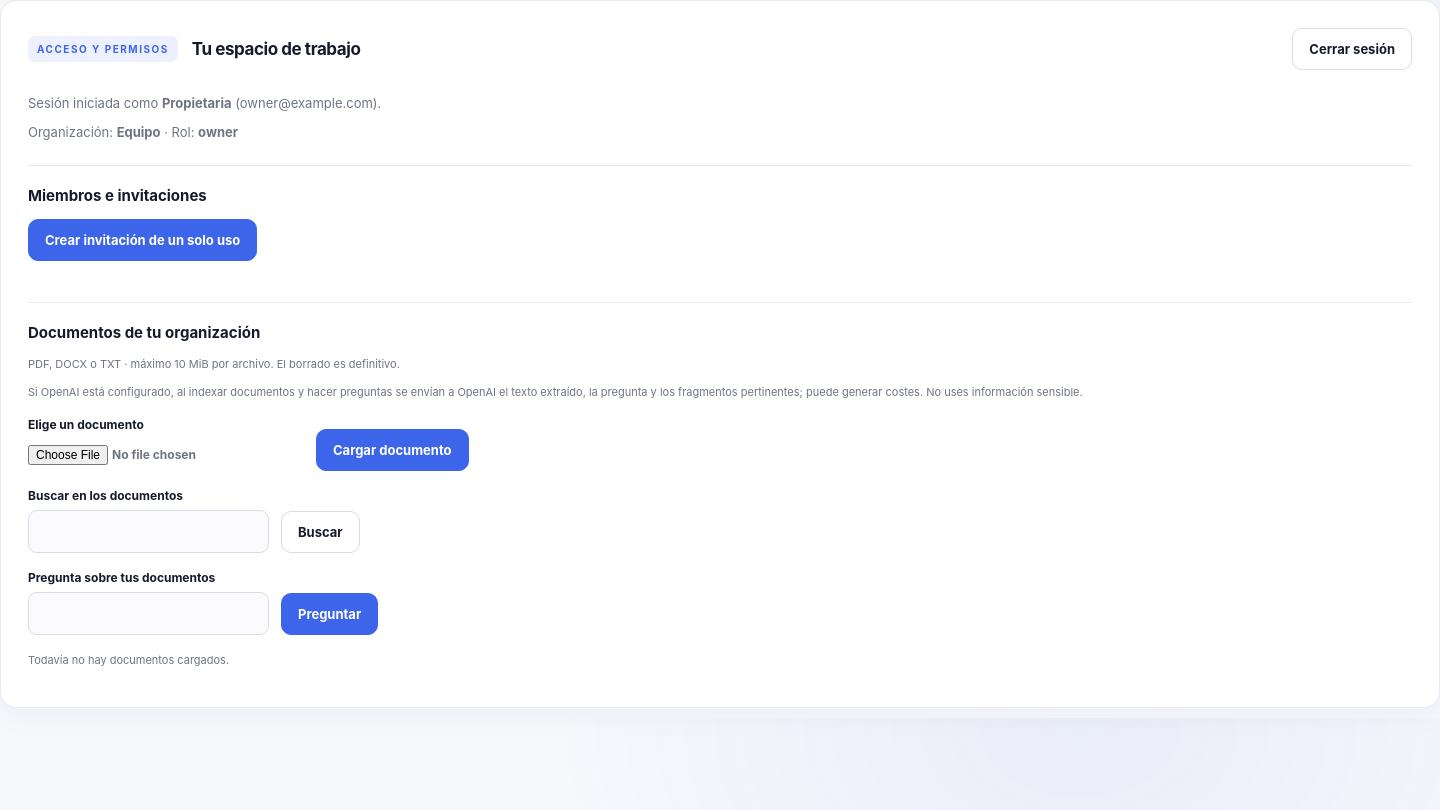
Test: AuthPanel › shows the one-time invitation code to the owner
Check: the text "Si OpenAI está configurado, al indexar documentos" is shown, box [28,384,1083,398]
What coordinates should you click on to do the following:
click the button "Crear invitación de un solo uso"
I would click on:
 (143, 240)
Its box is [28,219,257,261].
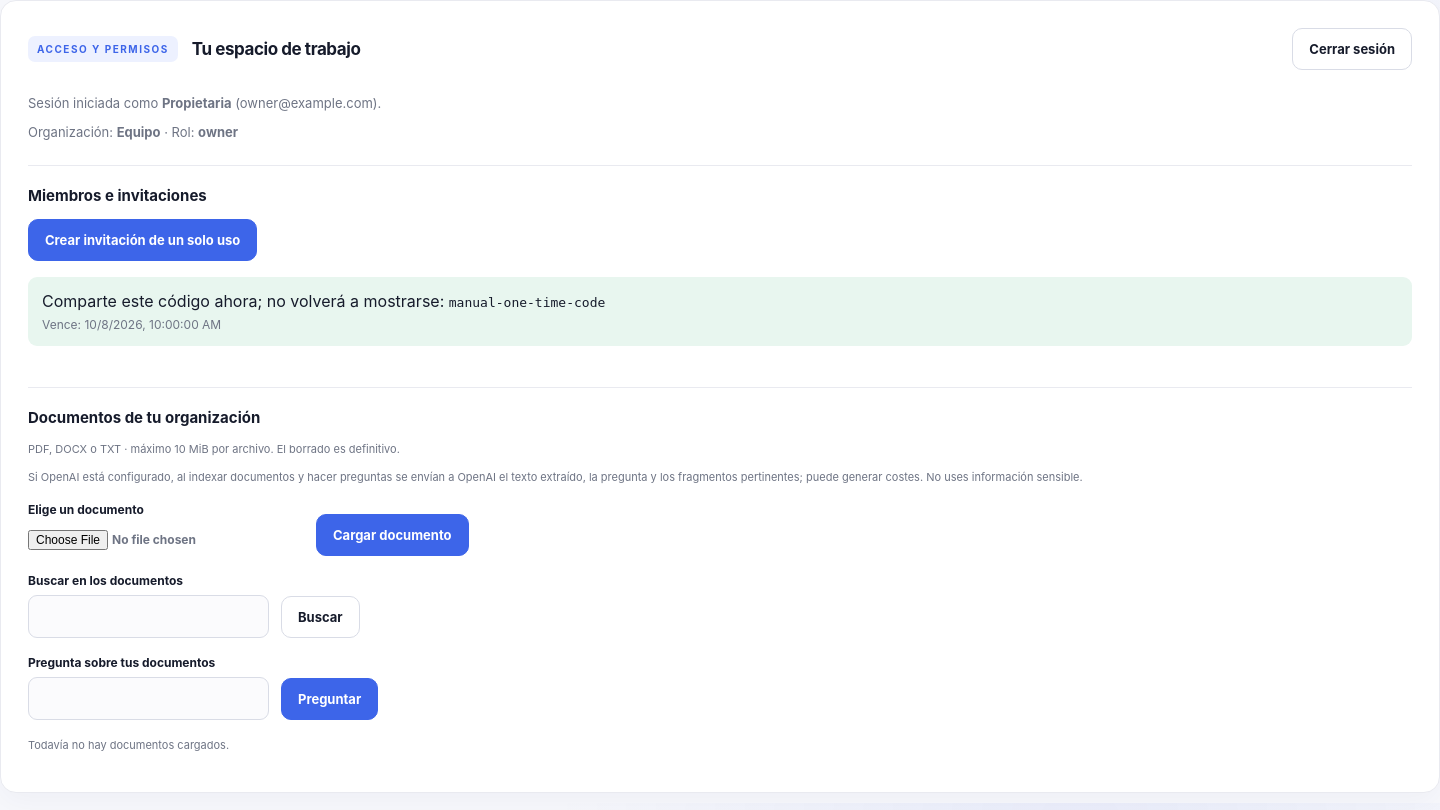
Check: the text "manual-one-time-code" is shown, box [449,295,605,310]
Check: the text "no volverá a mostrarse" is shown, box [42,291,449,311]
